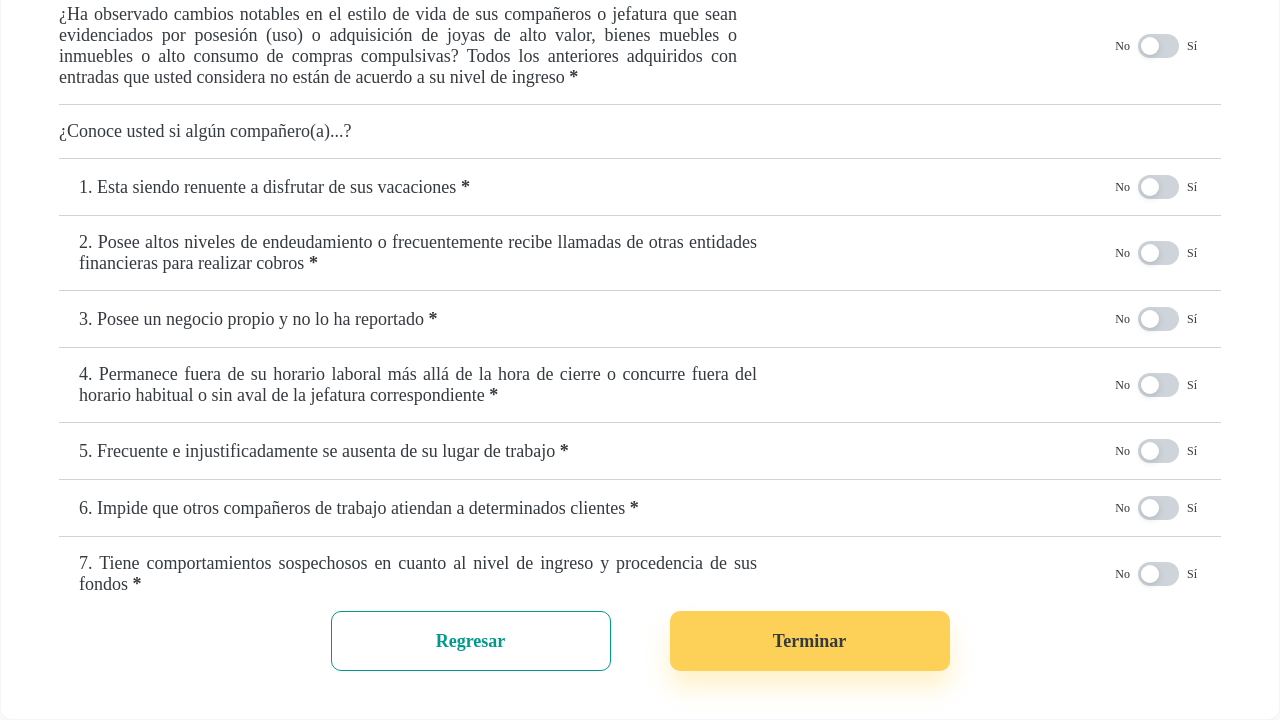
Test: Completion (paso 12, cierre) › "Terminar" shows the oath with a single "Guardar" button and no step change
(page scrolled)
Click the button "Terminar": (810, 641) [670, 611, 950, 671]
(page scrolled)
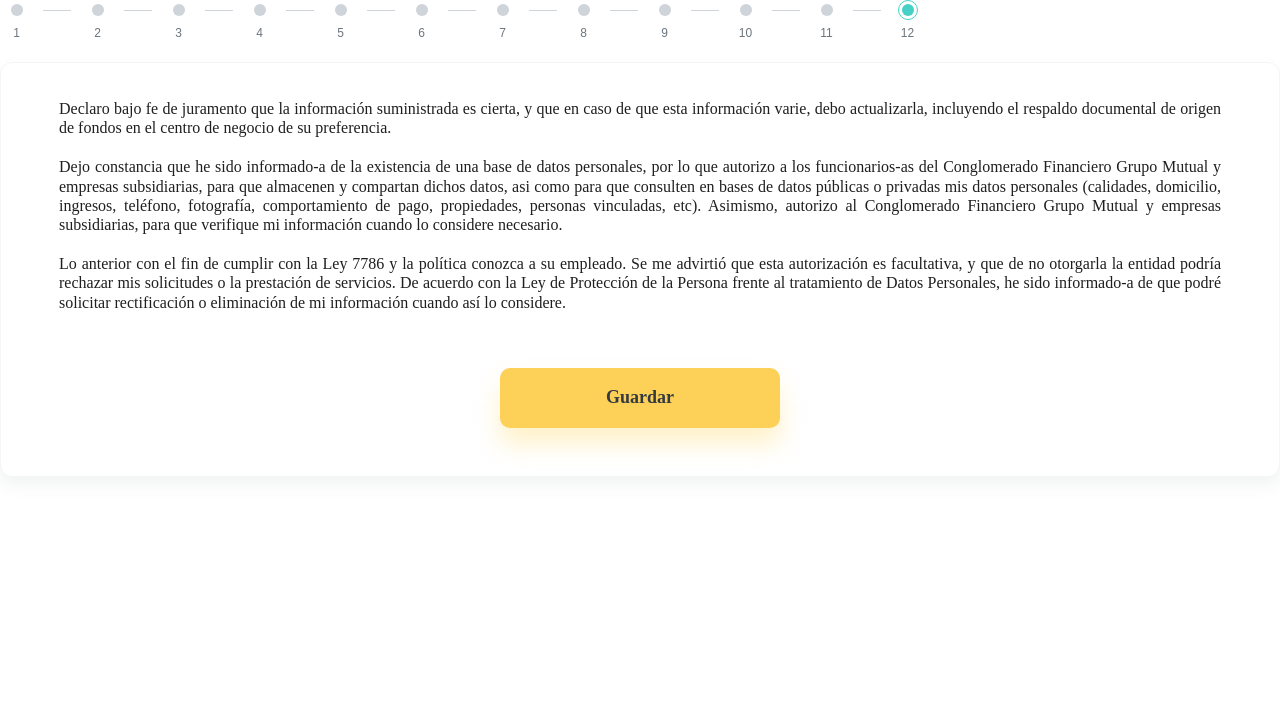
Now the text "Declaro bajo fe de juramento que la información suministrada es cierta" is shown, box [59, 100, 1221, 136]
Now the text "Ley 7786 y la política conozca a su empleado" is shown, box [59, 255, 1221, 310]
Now the button "Guardar" is enabled, box [500, 368, 780, 428]
